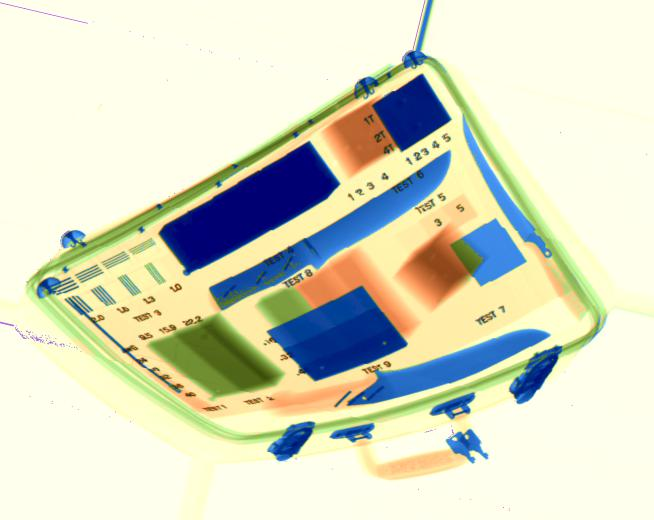KnifeCustom: (210, 150, 452, 311), (334, 327, 551, 410), (459, 114, 553, 264)
